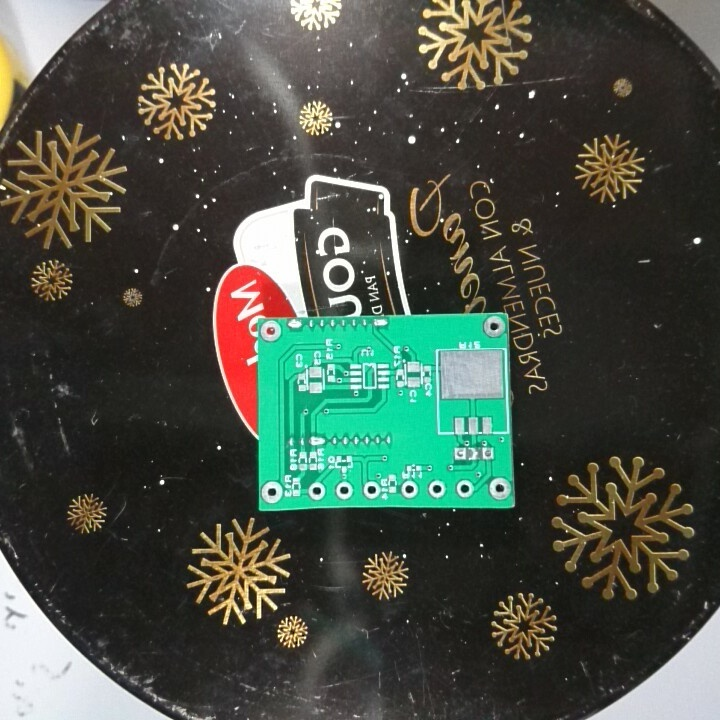F: (260, 479, 286, 509), (258, 318, 284, 346), (481, 312, 504, 343), (487, 475, 513, 502), (307, 480, 330, 502), (398, 479, 422, 500), (454, 478, 476, 500), (333, 480, 356, 500), (427, 477, 448, 498), (361, 480, 381, 501), (452, 446, 470, 465), (480, 445, 498, 462)
P: (370, 314, 393, 332), (307, 431, 327, 450), (285, 317, 304, 331)
